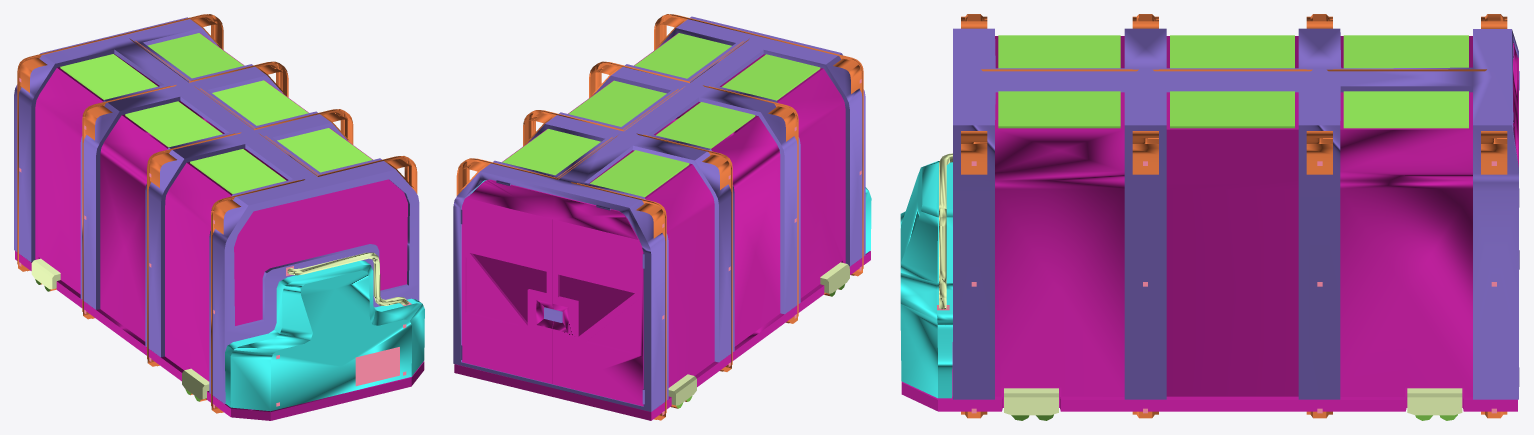
File: container_dry_4_025x05x025_a.glb
The picture shows the model from 3 angles, left to right: view 1: azimuth 30°, elevation 25°; view 2: azimuth 150°, elevation 25°; view 3: azimuth 270°, elevation 25°; orthographic projection. The views are drawn at different scales.
Bounding box in the file's own units: 2.5 × 2.5 × 4.96.
